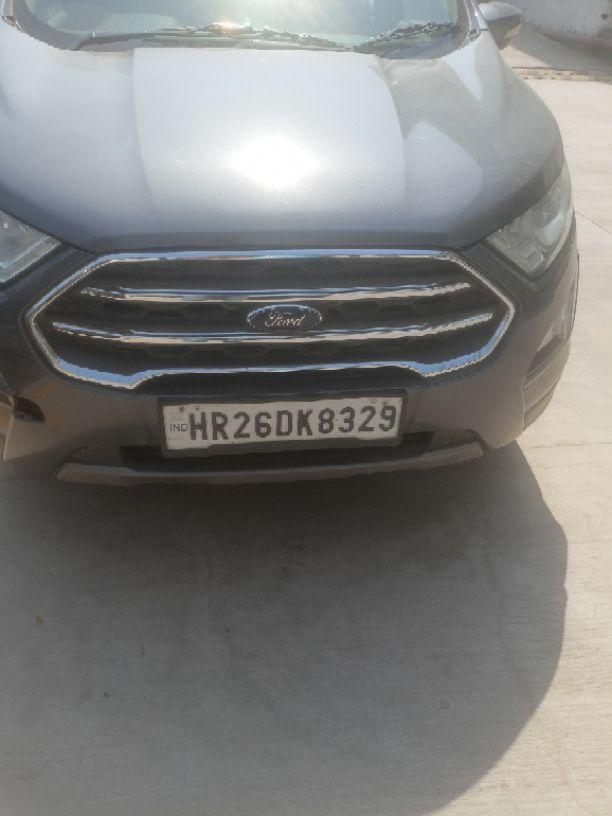license_plate: (156, 391, 406, 458)
